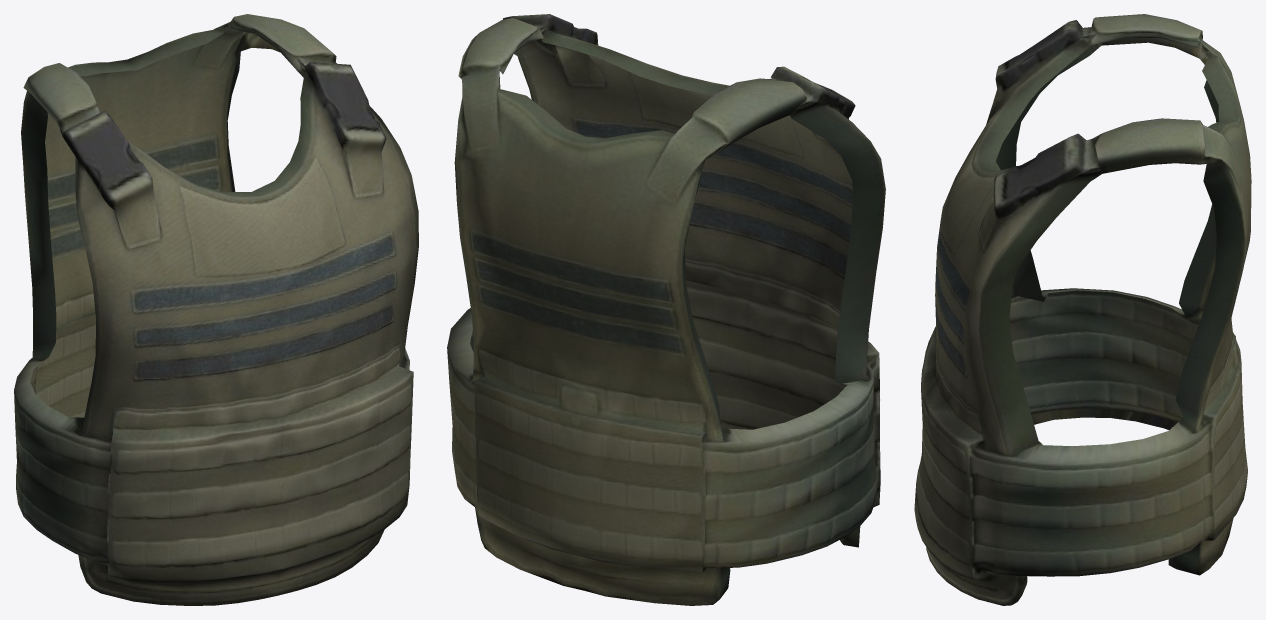
File: Vest_Olive.fbx
3 renders of one model, left to right at view 1: azimuth 30°, elevation 25°; view 2: azimuth 150°, elevation 25°; view 3: azimuth 270°, elevation 25°, orthographic. The views are drawn at different scales.
Visible parts, largest first — view 1: GunMesh; view 2: GunMesh; view 3: GunMesh.
Part boxes in pixels (x1=…): GunMesh: x1=14, y1=14, x2=418, y2=605; GunMesh: x1=447, y1=14, x2=885, y2=605; GunMesh: x1=914, y1=14, x2=1251, y2=605.
Size of the model in its own units: 0.4801 by 0.6 by 0.3905.
1 material, 1 textured.
